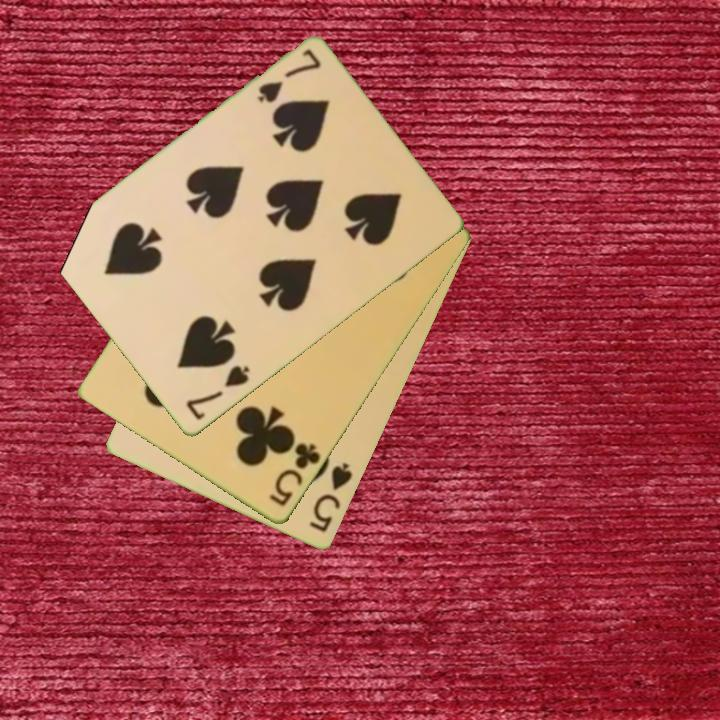5c: (265, 440, 324, 510)
5s: (305, 459, 356, 536)
7s: (182, 362, 253, 424), (254, 46, 324, 107)
